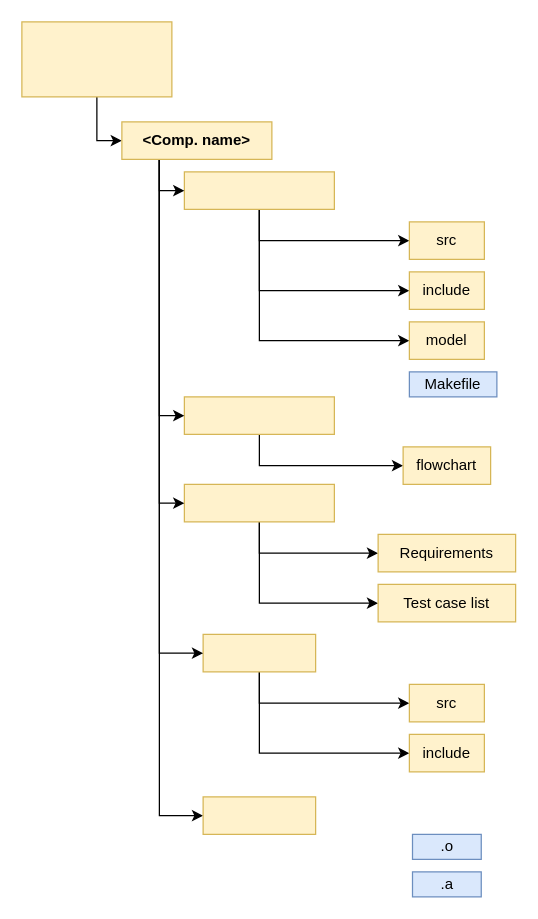
This 538x919 diagram has some shape labels left out. Each missing label, with the centre of its shape:
"Bin" belongs at (259,815).
"Components" belongs at (96,59).
"Design" belongs at (258,415).
"Documentation" belongs at (258,502).
"Source" belongs at (258,190).
"Tests" belongs at (259,652).
